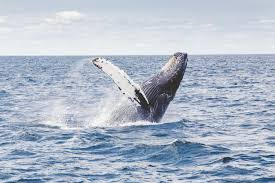humpback: (103, 51, 189, 123)
